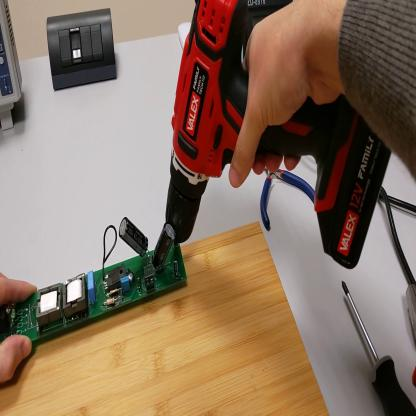electric screwdriver: (166, 2, 407, 270)
hand: (225, 2, 344, 187), (2, 276, 37, 388)
high voltage board: (1, 217, 188, 341)
oscilloscope: (1, 2, 24, 130)
pliers: (259, 173, 319, 232), (404, 281, 416, 389)
screwdriver-: (341, 279, 416, 416)
working area: (1, 219, 330, 416)
